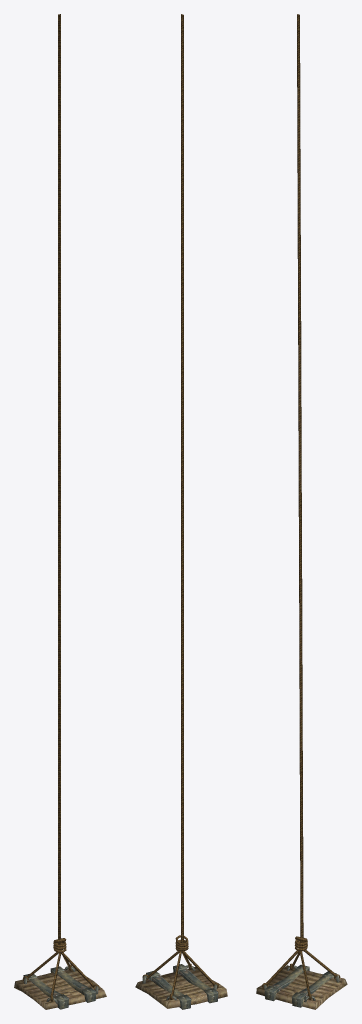
Rendered from S_Build_West070.FBX.
3 views of the same model, side by side, from view 1: azimuth 30°, elevation 25°; view 2: azimuth 210°, elevation 25°; view 3: azimuth 330°, elevation 25° (orthographic).
Visible parts, largest first — view 1: S_Build_West070; view 2: S_Build_West070; view 3: S_Build_West070.
Part boxes in pixels (x1,y1,x2,y2): S_Build_West070: [14, 14, 106, 1009]; S_Build_West070: [135, 14, 227, 1009]; S_Build_West070: [256, 14, 347, 1009].
Bounding box in the file's own units: 235 × 246 × 3636.
